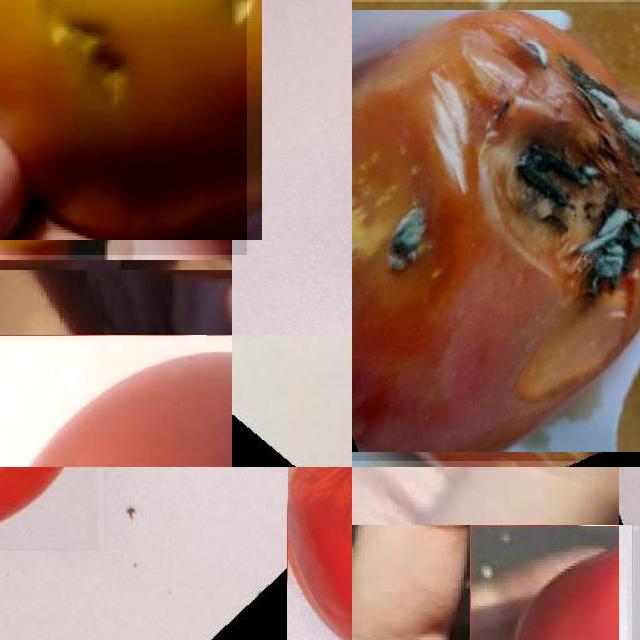1: (352, 2, 640, 460)
Fresh Tomato: (0, 335, 232, 467), (470, 525, 619, 640)
Rotten Tomato: (0, 0, 247, 255), (287, 467, 352, 640), (0, 467, 98, 551)
